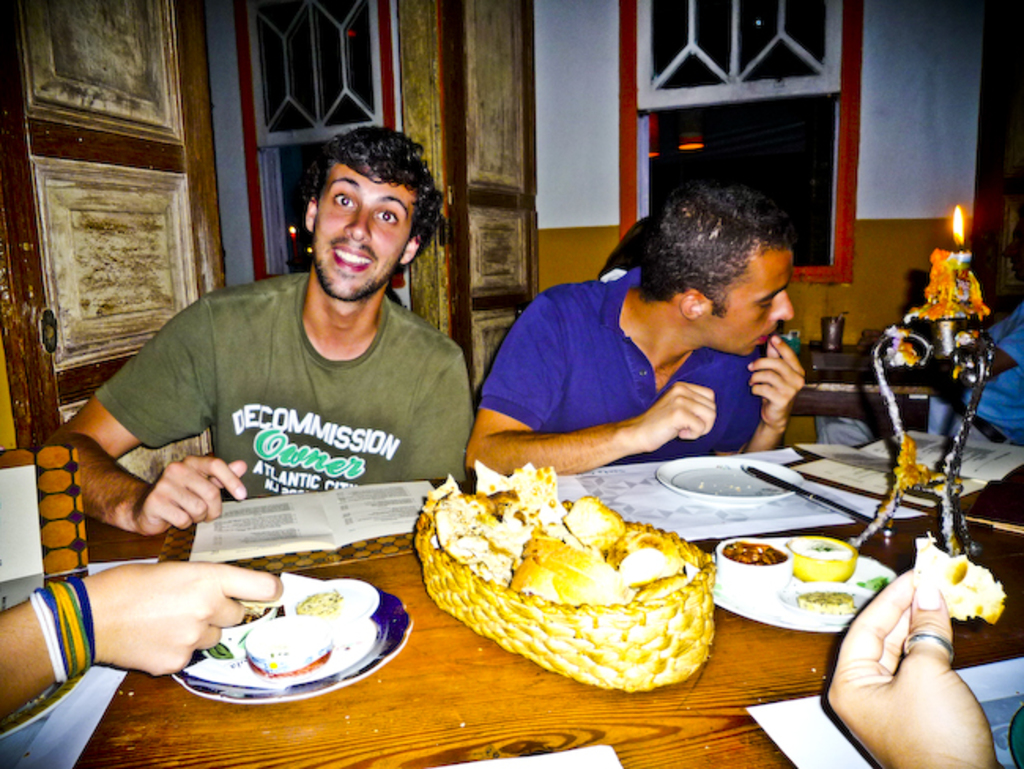plate: (140, 587, 420, 704)
